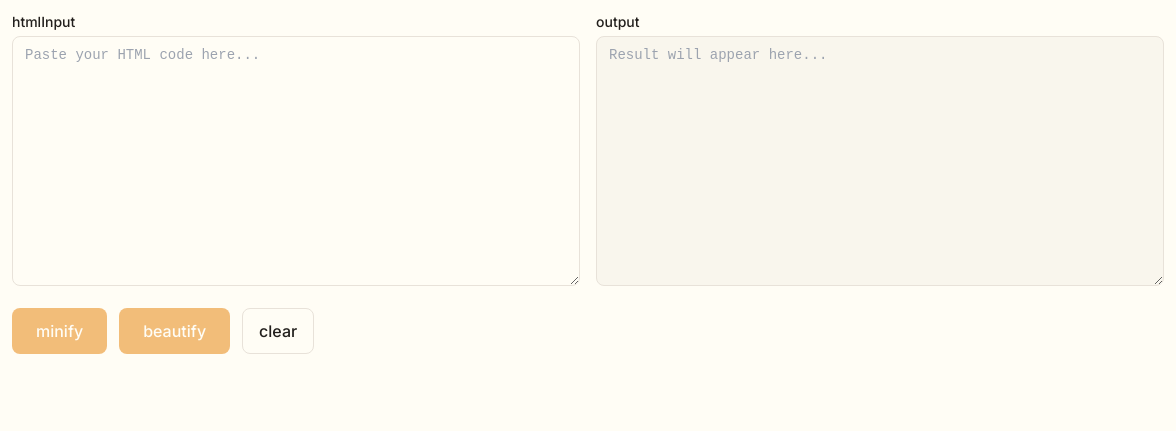
Test: HtmlMinifier › shows statistics after minification
The width and height of the screenshot is (1176, 431).
Type "<div>   <p>   hello   </p>   </div>" into the text box named "HTML input" at {"x": 296, "y": 161}, box 12,36 -> 580,286
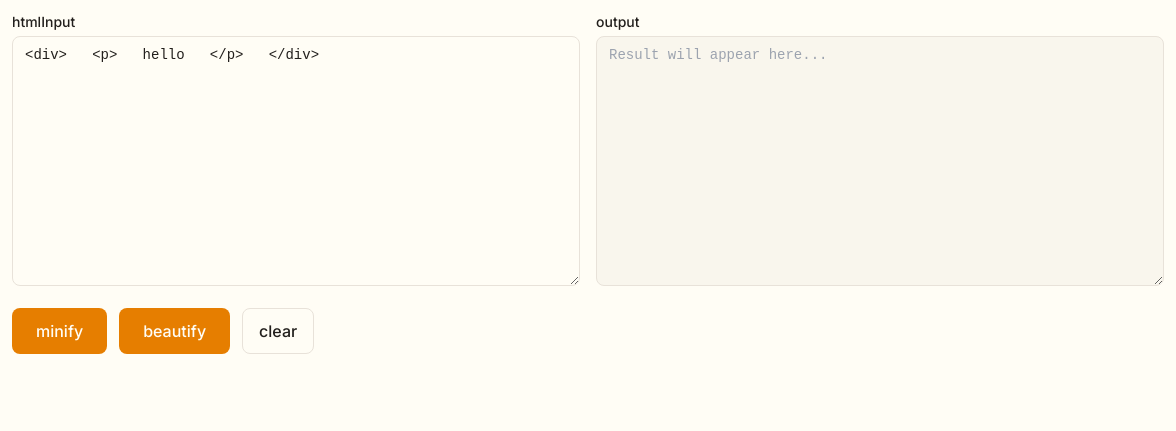
Click the button "minify" at {"x": 60, "y": 331}, box 12,308 -> 107,354
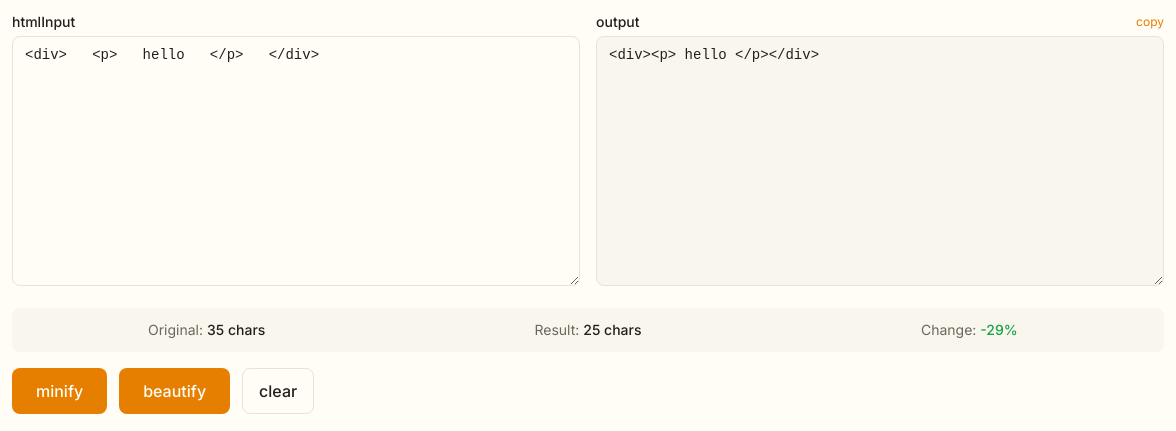
Result: the text "Original:" is shown at 148,321 -> 207,338
Result: the text "Result:" is shown at 534,321 -> 583,338
Result: the text "Change:" is shown at 921,321 -> 980,338
